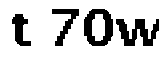0: (82, 6, 114, 50)
7: (46, 6, 80, 50)
t: (8, 12, 35, 51)
w: (116, 13, 160, 50)
